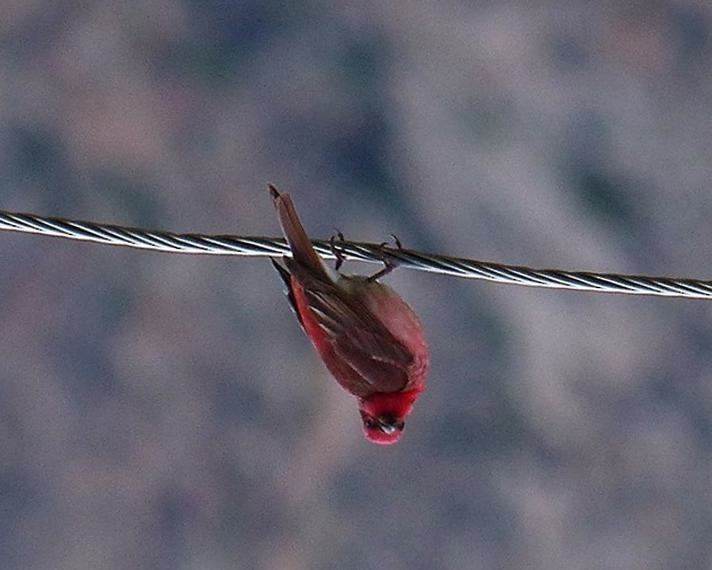rosefinch: (268, 170, 429, 460)
